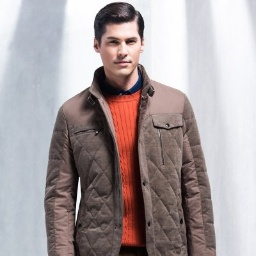face: (91, 1, 146, 77)
